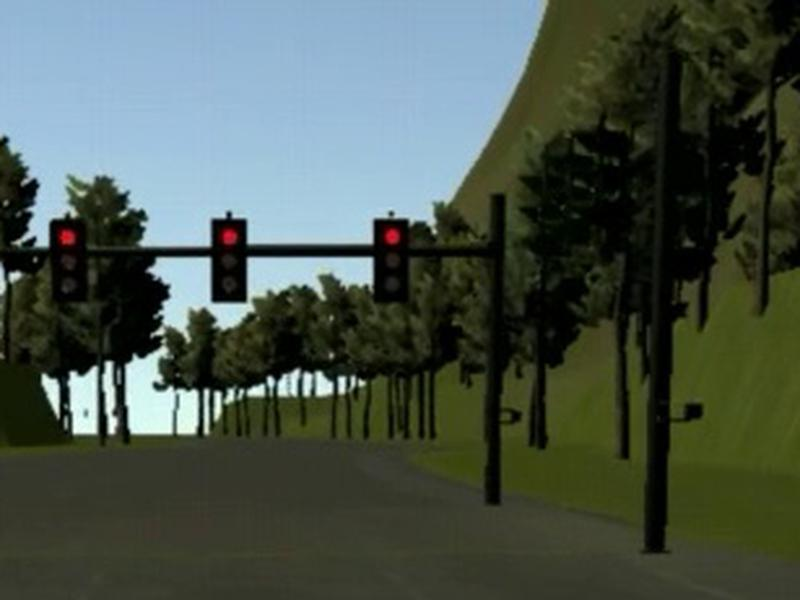Red: (209, 217, 249, 302), (49, 219, 89, 302), (373, 218, 409, 303)
